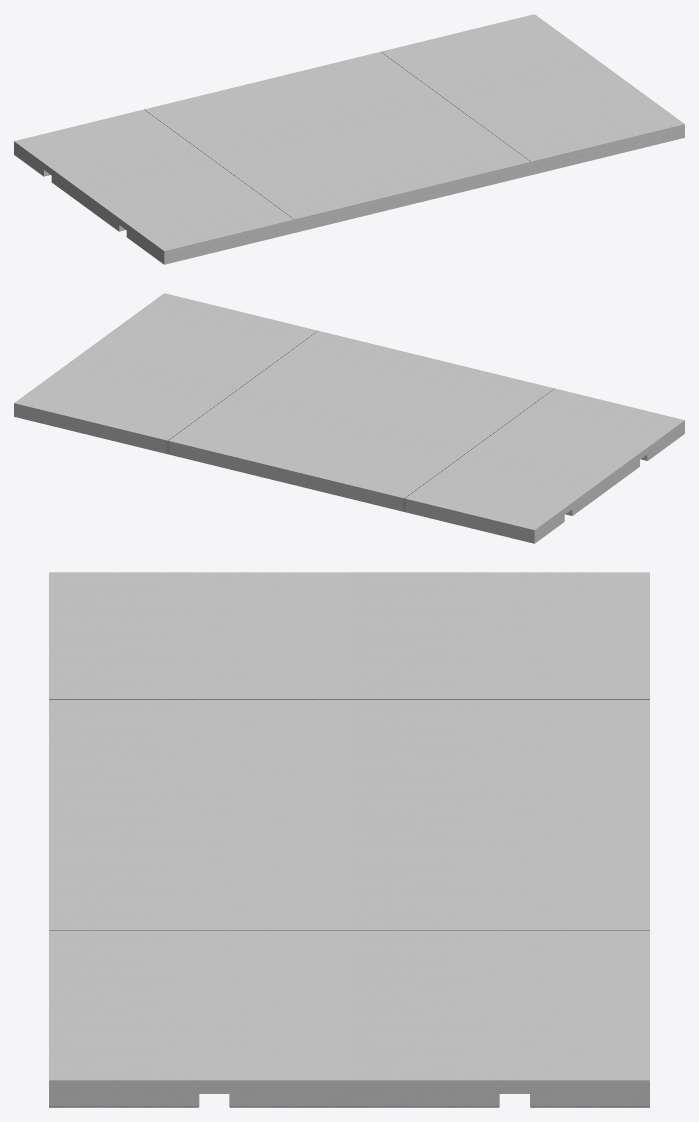
Rendered from CeilingWide.fbx.
3 views of the same model, one above another, from view 1: azimuth 30°, elevation 25°; view 2: azimuth 150°, elevation 25°; view 3: azimuth 270°, elevation 25° (orthographic). The views are drawn at different scales.
Parts seen in each view (by area): view 1: CeilingWide; view 2: CeilingWide; view 3: CeilingWide.
Part boxes in pixels (bbox=[...]): CeilingWide: bbox=[14, 14, 684, 264]; CeilingWide: bbox=[14, 293, 684, 543]; CeilingWide: bbox=[49, 572, 649, 1107].
Bounding box in the file's own units: 8 × 0.2 × 4.
